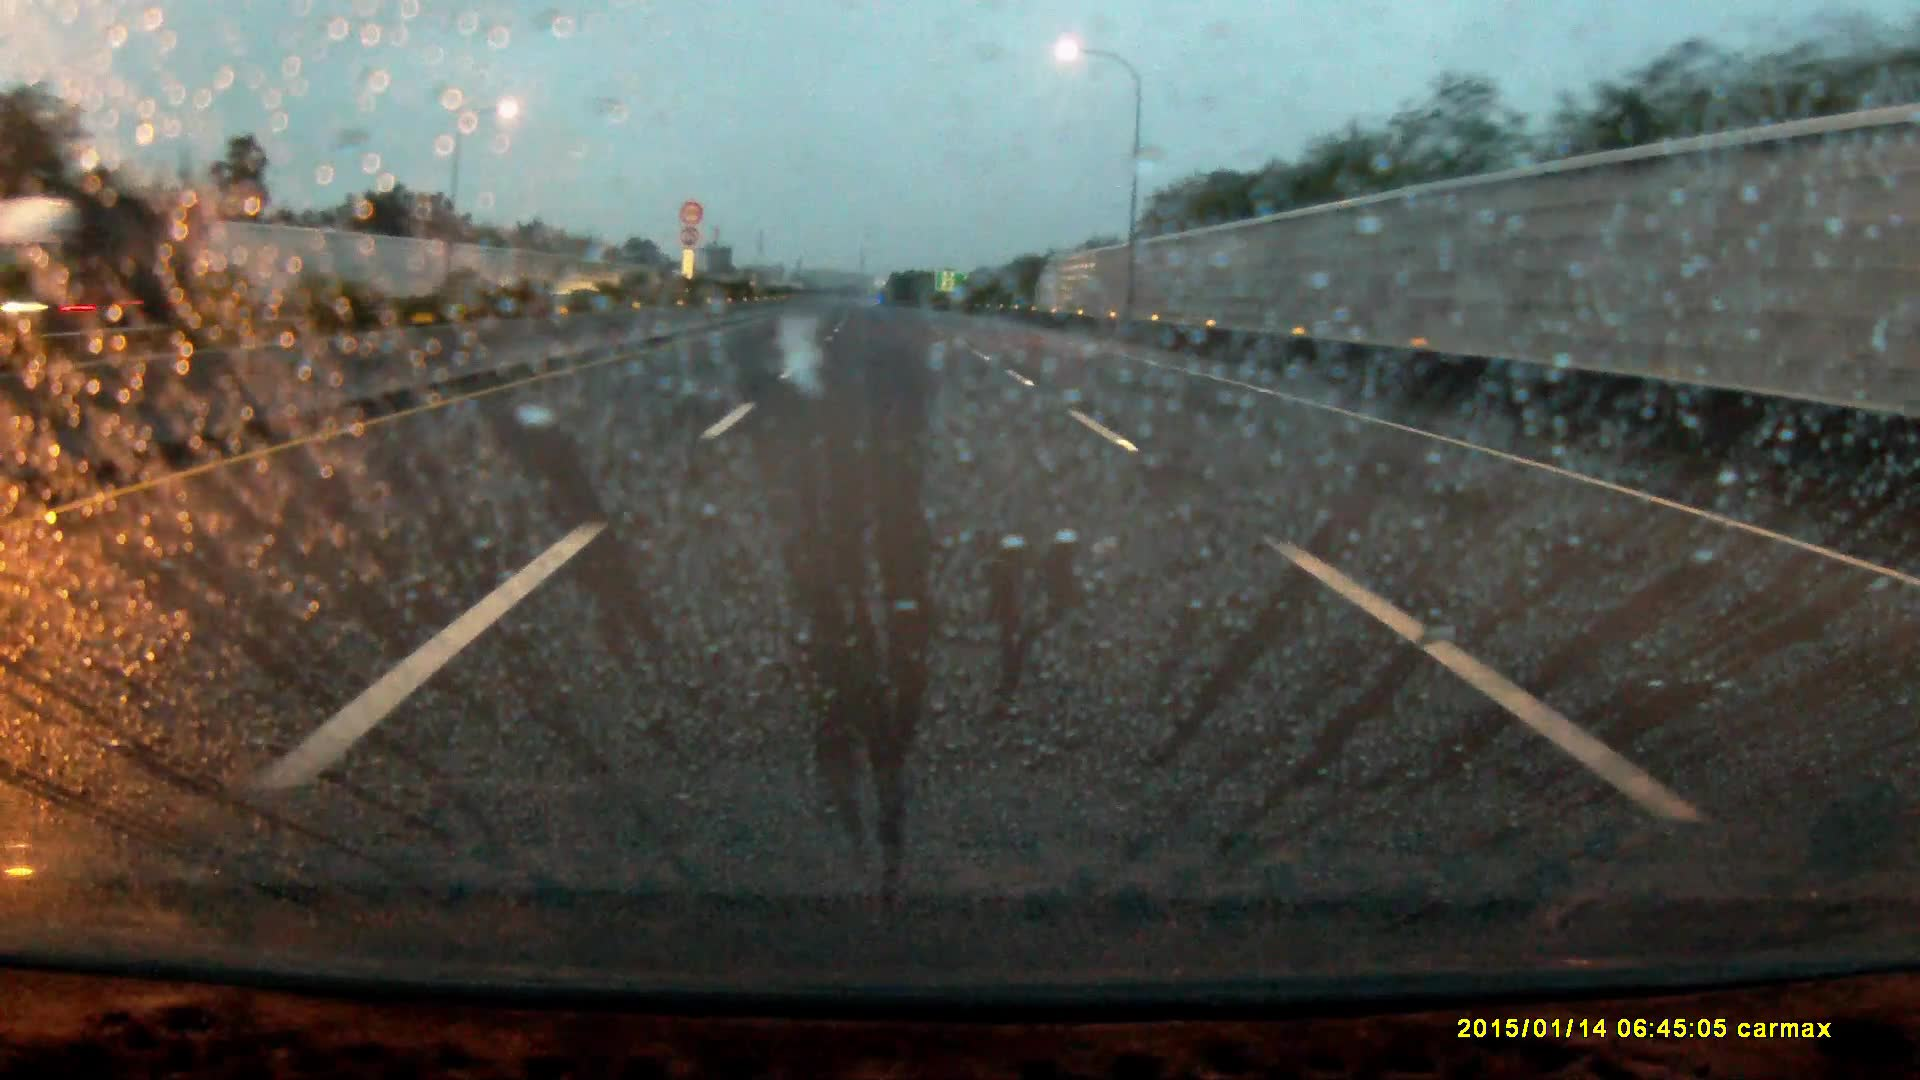vehicle: (1, 198, 185, 338)
